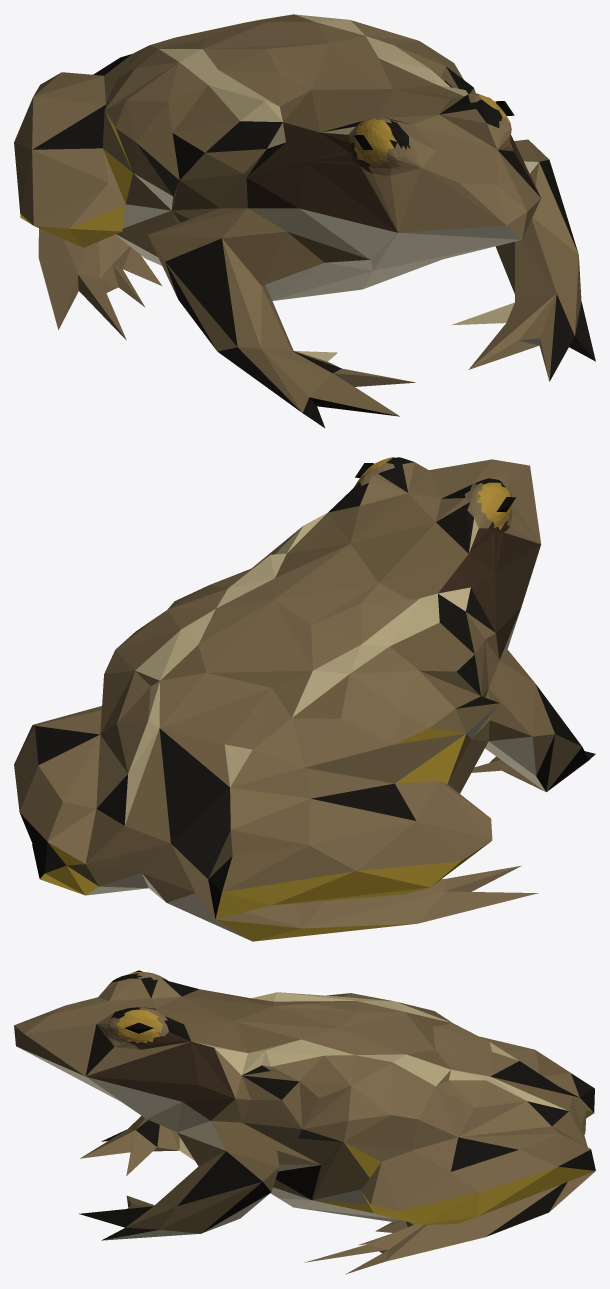
The model's file is cascades_frog.glb.
The picture shows the model from 3 angles, top to bottom: view 1: azimuth 30°, elevation 25°; view 2: azimuth 150°, elevation 25°; view 3: azimuth 270°, elevation 25°; orthographic projection. The views are drawn at different scales.
Parts seen in each view (by area): view 1: lod0; view 2: lod0; view 3: lod0.
Boxes of the visible parts, box(x1,y1,x2,y2) form: lod0: box(14, 14, 595, 427); lod0: box(14, 457, 595, 941); lod0: box(14, 970, 595, 1274).
Size of what is drawn, in the model's own units: 0.0473 by 0.0253 by 0.0661.
